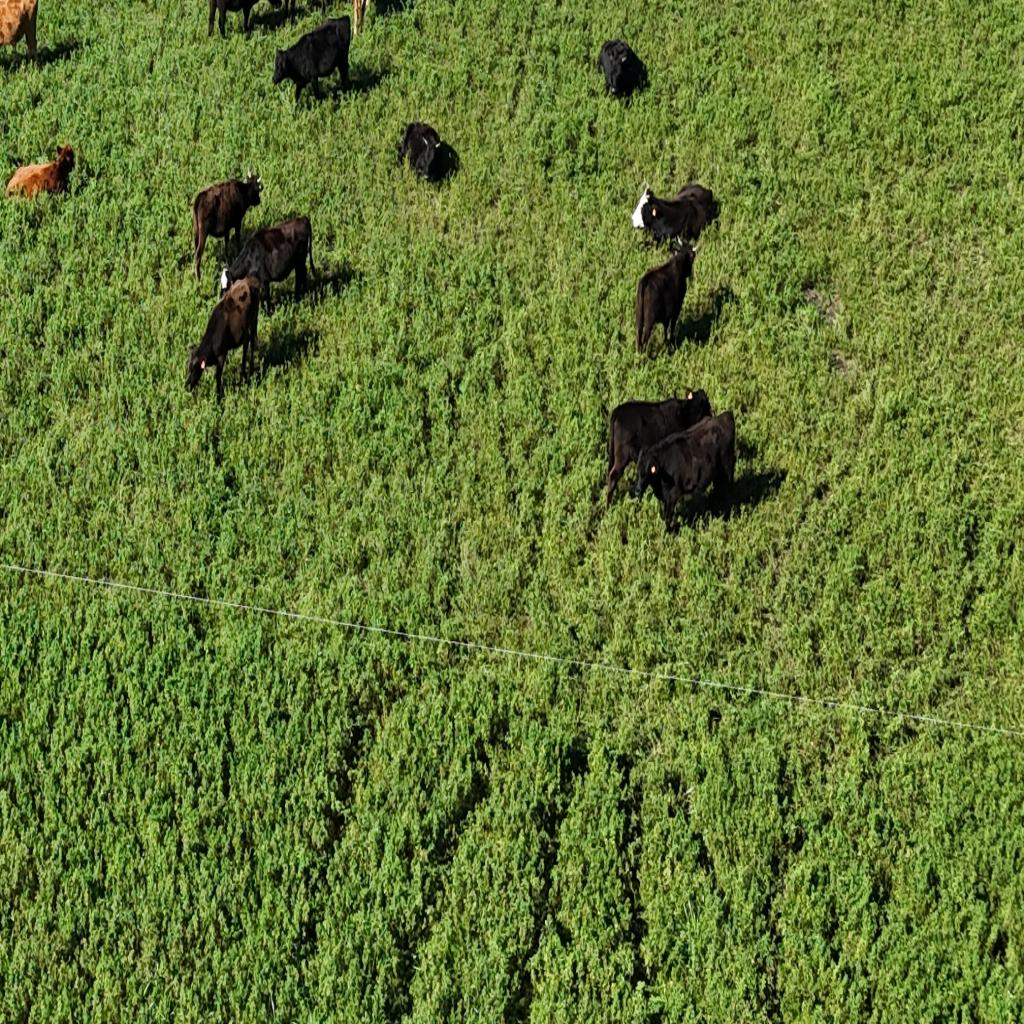cow: (631, 419, 751, 538), (606, 389, 708, 505), (184, 274, 264, 402), (218, 216, 318, 315), (190, 171, 263, 286), (635, 241, 699, 359), (271, 16, 351, 106), (627, 178, 721, 244), (3, 132, 80, 204), (396, 117, 458, 186), (0, 0, 53, 71), (597, 38, 646, 101), (207, 1, 267, 41), (248, 1, 290, 32)
